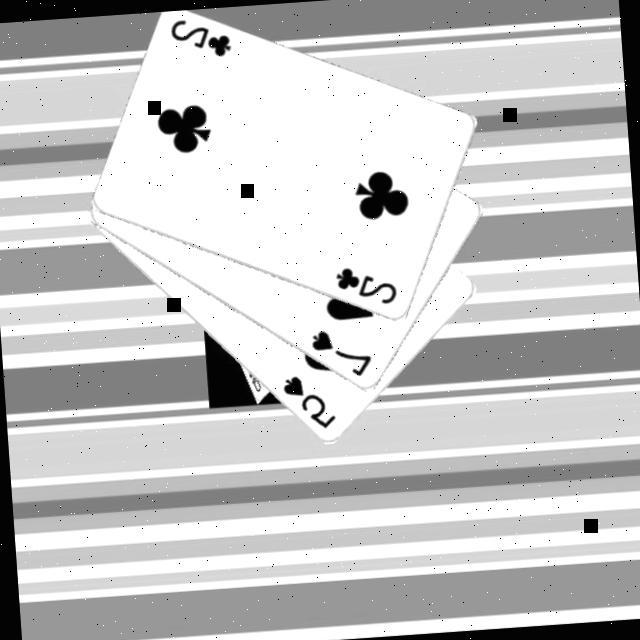2C: (331, 259, 400, 309), (165, 11, 234, 61)
5S: (276, 368, 338, 433)
7S: (305, 322, 375, 382)
